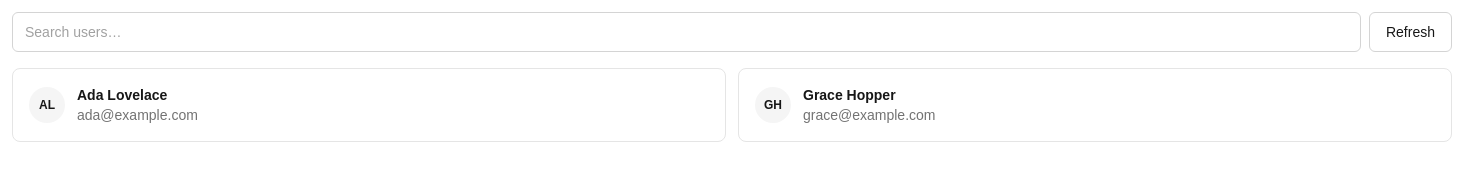
it: UserSearch › filters the rendered list by the debounced query
Expected: the heading "Ada Lovelace" is shown, [77,87,167,103]
In the field labelled "Search users": (686, 32) [12,12,1361,52], type "grace"
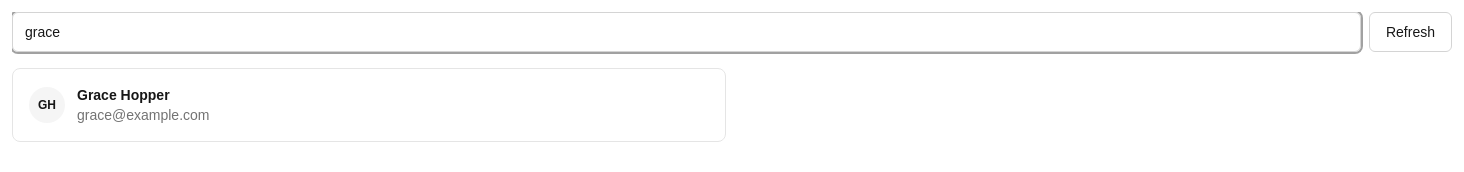
Expected: the heading "Grace Hopper" is shown, [77,87,170,103]
Result: the button "Ada Lovelace" is gone
